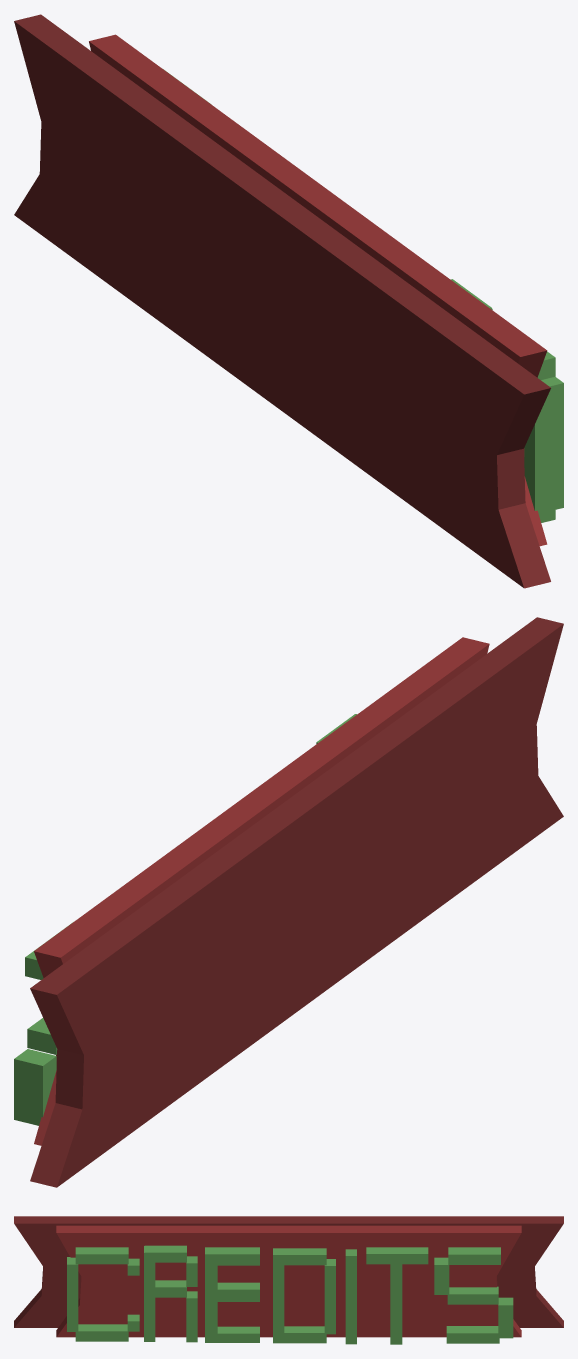
The model's file is CreditsButton.fbx.
3 views of the same model, one above another, from view 1: azimuth 30°, elevation 25°; view 2: azimuth 150°, elevation 25°; view 3: azimuth 270°, elevation 25° (orthographic). The views are drawn at different scales.
Parts seen in each view (by area): view 1: pCube69, polySurface5; view 2: pCube69, polySurface5; view 3: pCube69, polySurface5.
Part boxes in pixels (x1,y1,x2,y2): pCube69: [14, 14, 550, 588]; polySurface5: [163, 69, 563, 522]; pCube69: [30, 617, 563, 1187]; polySurface5: [14, 714, 356, 1125]; pCube69: [14, 1216, 563, 1337]; polySurface5: [67, 1245, 513, 1344].
Bounding box in the file's own units: 54.87 × 113 × 537.
